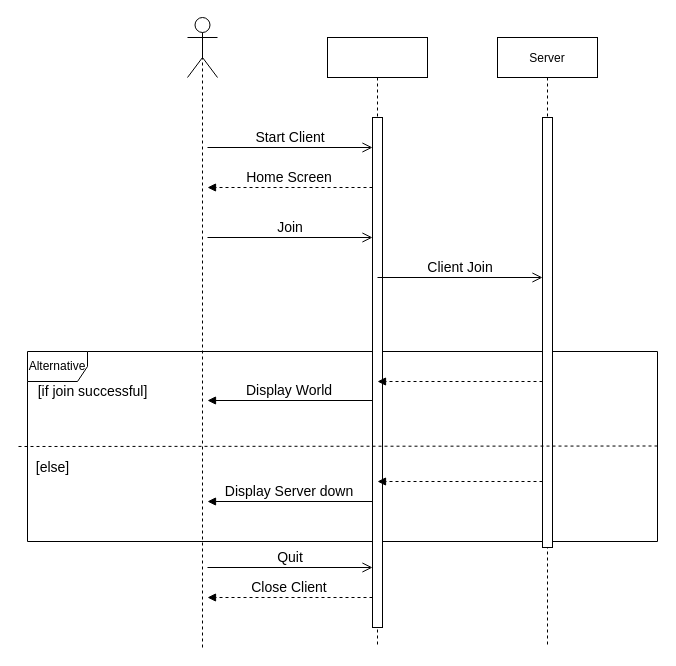
This 676x666 diagram has some shape labels left out. Each missing label, with the box of its shape:
Client: (326, 36, 428, 648)
User: (186, 16, 218, 78)
